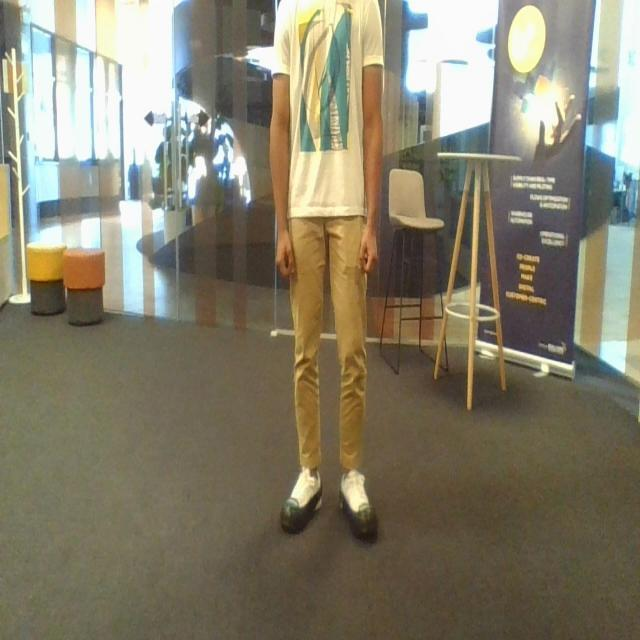shoes: (335, 465, 383, 543), (278, 466, 324, 530)
